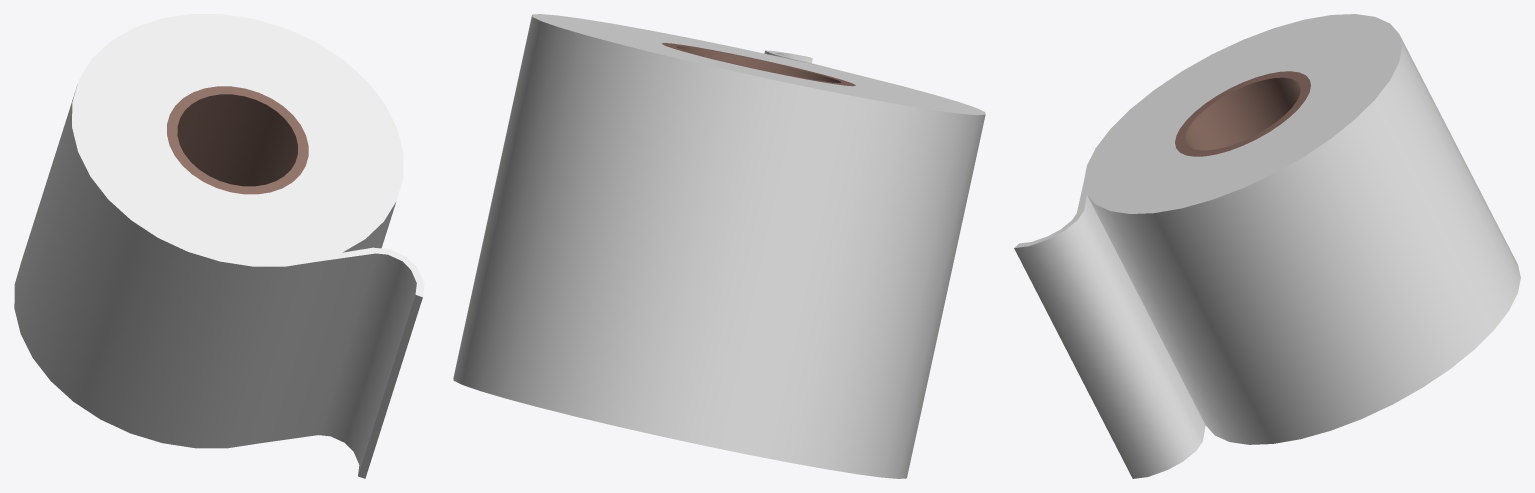
Rendered from roll_of_paper.glb.
3 views of the same model, side by side, from view 1: azimuth 30°, elevation 25°; view 2: azimuth 150°, elevation 25°; view 3: azimuth 270°, elevation 25° (orthographic). The views are drawn at different scales.
Visible parts, largest first — view 1: Cylinder.514; view 2: Cylinder.514; view 3: Cylinder.514.
Boxes of the visible parts, x1,y1,x2,y2 form: Cylinder.514: (14, 14, 424, 478); Cylinder.514: (453, 14, 985, 478); Cylinder.514: (1014, 14, 1520, 478).
Bounding box in the file's own units: 1.69 × 2.1 × 2.44.
1 material, 1 textured.
